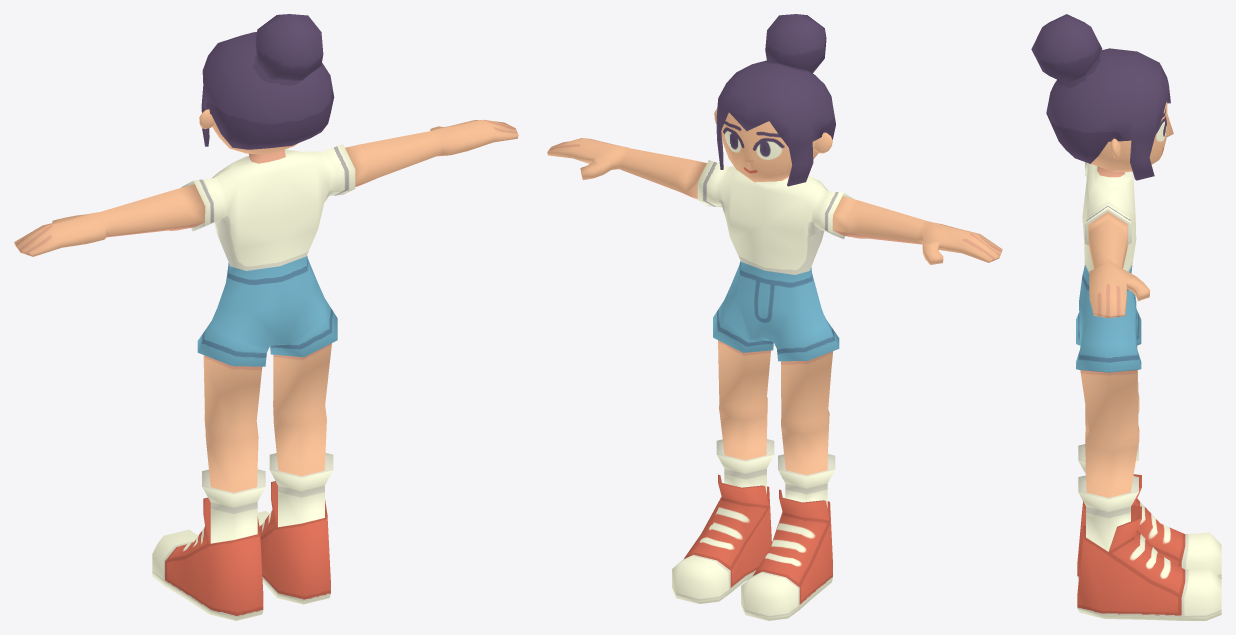
Rendered from GirlTutorialTest.glb.
The picture shows the model from 3 angles, left to right: view 1: azimuth 30°, elevation 25°; view 2: azimuth 150°, elevation 25°; view 3: azimuth 270°, elevation 25°; orthographic projection. The views are drawn at different scales.
Visible parts, largest first — view 1: Cylinder.001; view 2: Cylinder.001; view 3: Cylinder.001.
Part boxes in pixels (x1,y1,x2,y2): Cylinder.001: [14, 14, 518, 620]; Cylinder.001: [547, 14, 1002, 620]; Cylinder.001: [1031, 14, 1221, 620].
Bounding box in the file's own units: 1.73 × 1.99 × 0.5991.
Materials: 1 (1 with a texture image).
